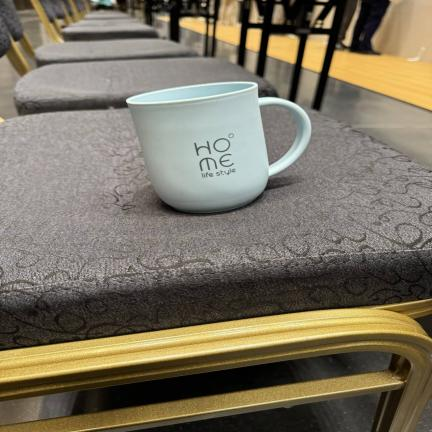cup: (127, 82, 311, 213)
